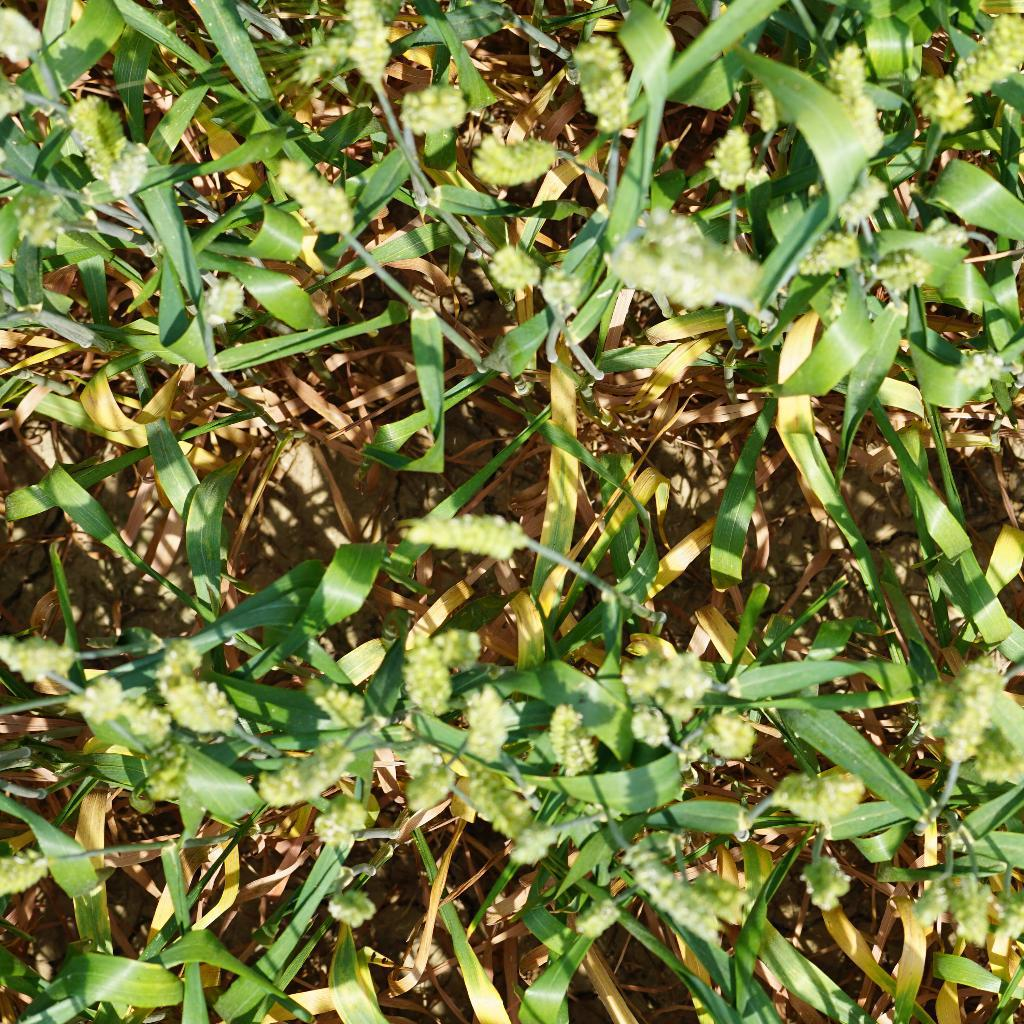0-0: (273, 149, 365, 257), (653, 215, 777, 291), (393, 504, 533, 571), (623, 845, 718, 937), (600, 245, 728, 310), (616, 642, 725, 716), (754, 751, 870, 818), (935, 657, 1004, 767), (150, 673, 249, 744), (575, 34, 642, 135), (239, 747, 363, 800), (468, 134, 568, 195), (290, 661, 376, 728), (950, 14, 1024, 89), (688, 705, 776, 766), (0, 625, 81, 691), (336, 0, 395, 89), (66, 677, 153, 737), (452, 675, 514, 759), (475, 236, 549, 306), (392, 634, 455, 716), (400, 77, 477, 141), (56, 89, 126, 159), (537, 705, 610, 772), (858, 238, 934, 302), (900, 63, 968, 134), (791, 209, 859, 280), (572, 892, 643, 959), (832, 169, 903, 235), (4, 186, 82, 246), (942, 867, 1001, 944), (195, 261, 258, 333), (529, 257, 593, 326), (428, 609, 494, 675), (471, 766, 534, 833), (279, 19, 347, 81), (911, 202, 978, 264), (795, 848, 855, 915), (490, 808, 561, 864), (683, 859, 743, 925), (104, 141, 159, 210), (303, 807, 374, 859), (709, 124, 757, 197), (901, 869, 961, 926), (819, 43, 886, 94), (959, 337, 1016, 395), (840, 86, 892, 149), (139, 747, 197, 802), (970, 743, 1024, 801), (322, 881, 380, 934), (0, 850, 62, 899), (627, 699, 681, 755), (405, 760, 457, 815), (741, 79, 792, 134)
